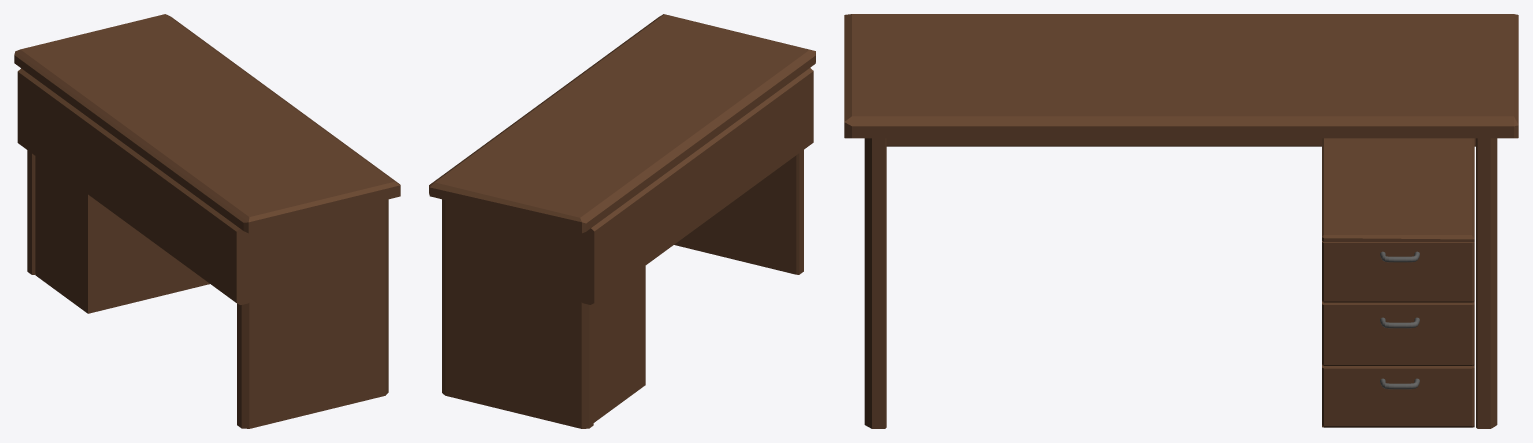
File: officeTable.fbx
The picture shows the model from 3 angles, left to right: view 1: azimuth 30°, elevation 25°; view 2: azimuth 150°, elevation 25°; view 3: azimuth 270°, elevation 25°; orthographic projection. The views are drawn at different scales.
Visible parts, largest first — view 1: Cube; view 2: Cube; view 3: Cube.
Boxes of the visible parts, left/top/right/bottom form: Cube: left=14, top=14, right=400, bottom=428; Cube: left=429, top=14, right=815, bottom=428; Cube: left=844, top=14, right=1518, bottom=428.
Size of the model in its own units: 364 by 451 by 883.
